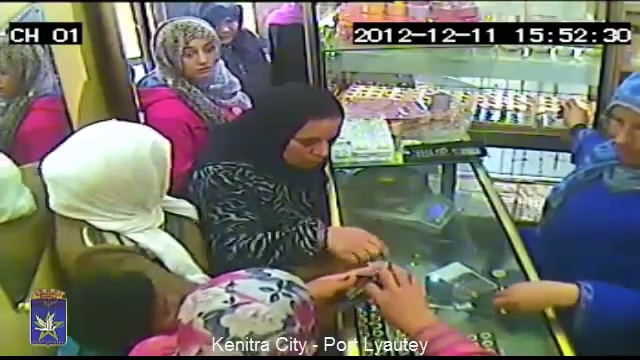face: (282, 116, 332, 167), (602, 106, 640, 170), (176, 43, 220, 76), (212, 7, 239, 45)
